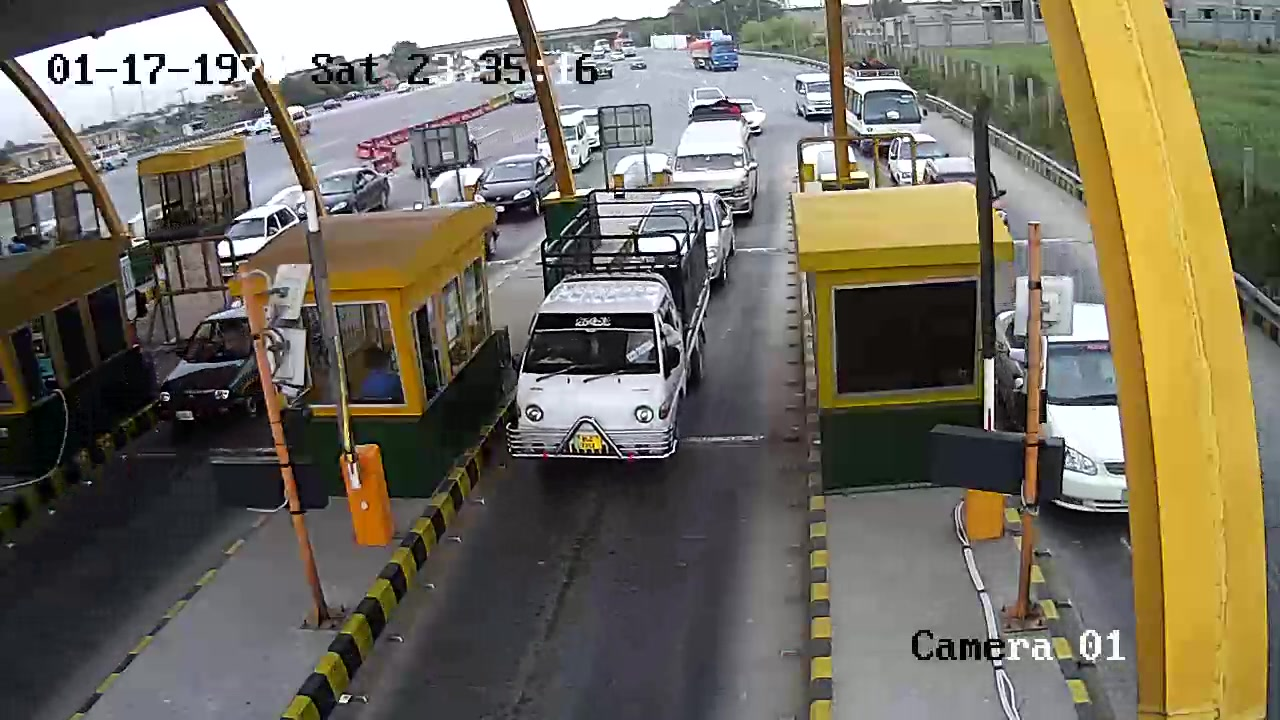F2: (508, 188, 718, 473)
